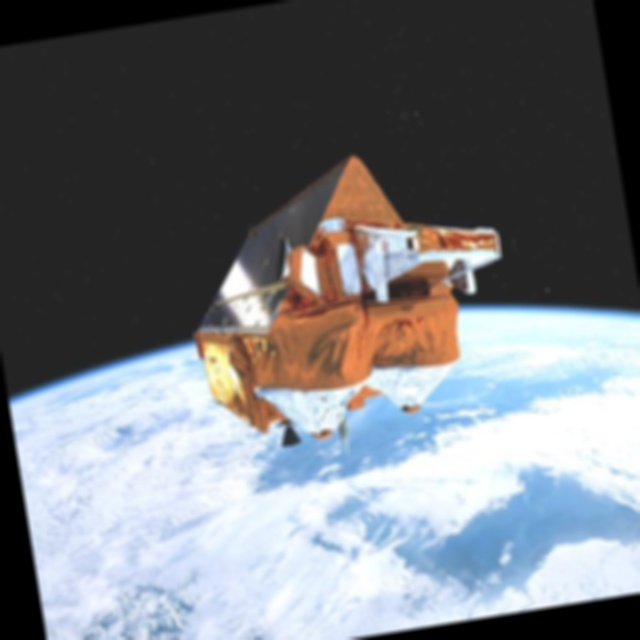satellite: (154, 114, 541, 492)
